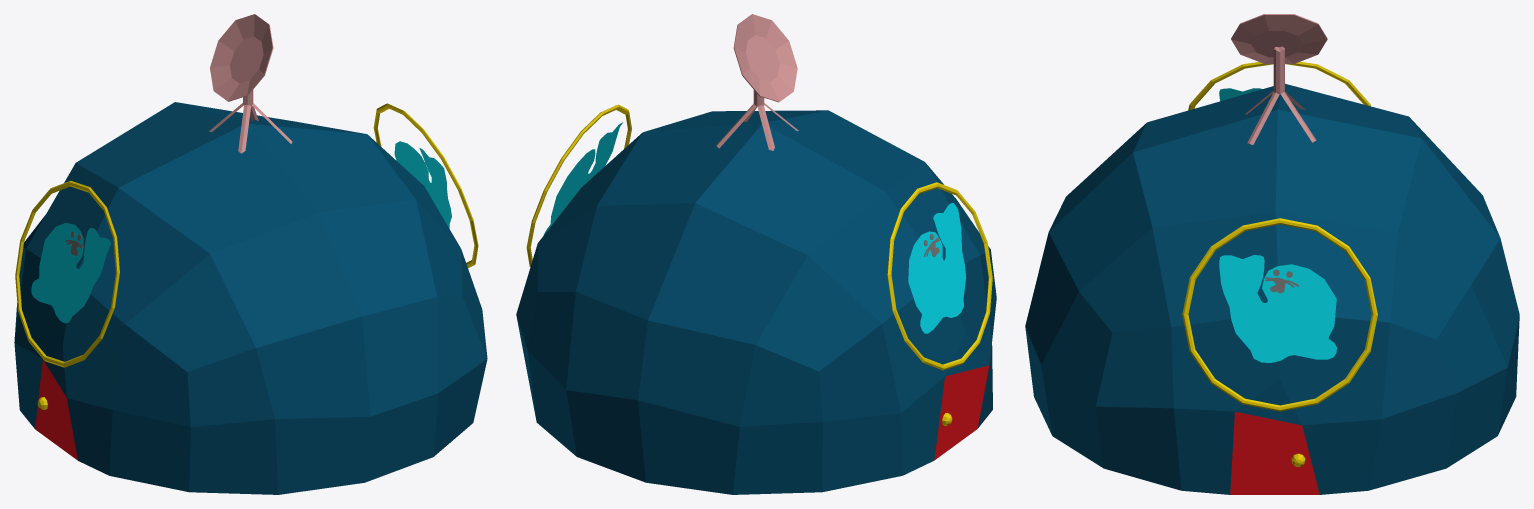
The model's file is New seal centre.fbx.
The picture shows the model from 3 angles, left to right: view 1: azimuth 30°, elevation 25°; view 2: azimuth 150°, elevation 25°; view 3: azimuth 270°, elevation 25°; orthographic projection. The views are drawn at different scales.
Parts seen in each view (by area): view 1: Cube, Plane, Plane.001, Circle; view 2: Cube, Plane, Plane.001, Circle; view 3: Cube, Plane, Plane.001, Circle.
Part boxes in pixels (x1=…): Cube: x1=14, y1=102, x2=487, y2=494; Plane: x1=31, y1=141, x2=451, y2=323; Plane.001: x1=209, y1=14, x2=292, y2=153; Circle: x1=15, y1=103, x2=478, y2=367; Cube: x1=516, y1=110, x2=996, y2=494; Plane: x1=544, y1=122, x2=966, y2=333; Plane.001: x1=716, y1=14, x2=798, y2=150; Circle: x1=526, y1=104, x2=992, y2=370; Cube: x1=1025, y1=83, x2=1519, y2=494; Plane: x1=1219, y1=88, x2=1336, y2=362; Plane.001: x1=1231, y1=14, x2=1327, y2=144; Circle: x1=1182, y1=61, x2=1377, y2=411.
Bounding box in the file's own units: 130 × 114 × 131.
